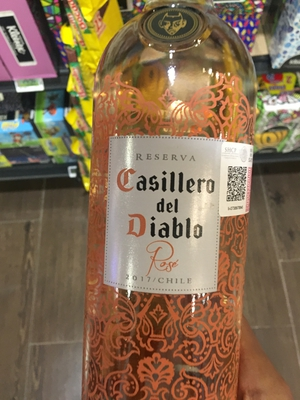casillero del diablo rose: (78, 4, 265, 380)
